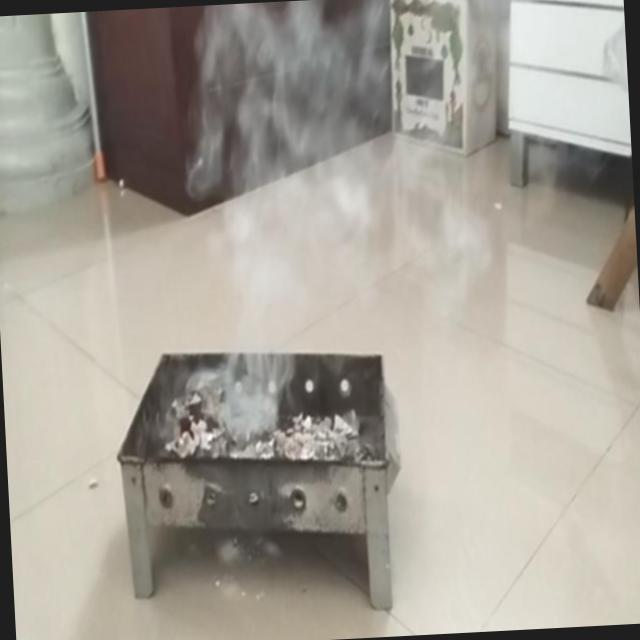smoke: (198, 29, 405, 398)
